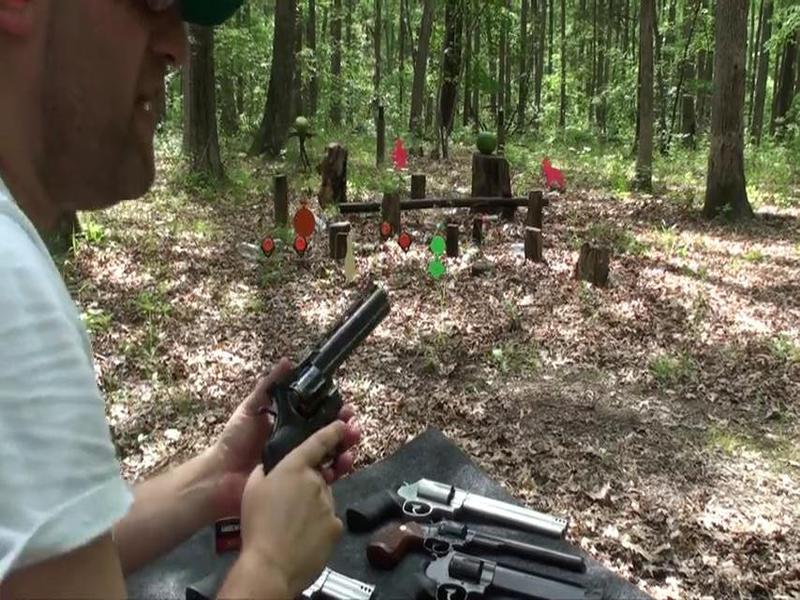Revolver: (255, 268, 398, 514)
